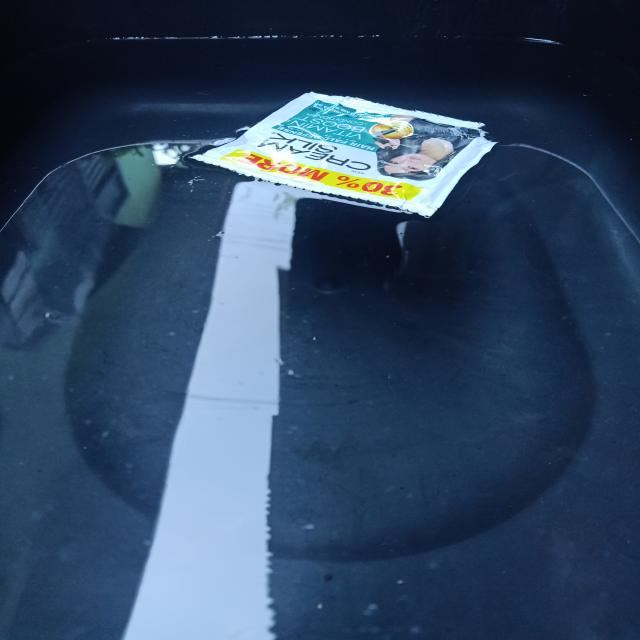Plastic Wrapper: (201, 87, 502, 214)
